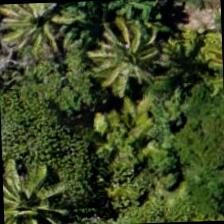Kelapa_Sawit: (80, 11, 174, 104), (2, 161, 75, 223), (0, 1, 77, 55)
